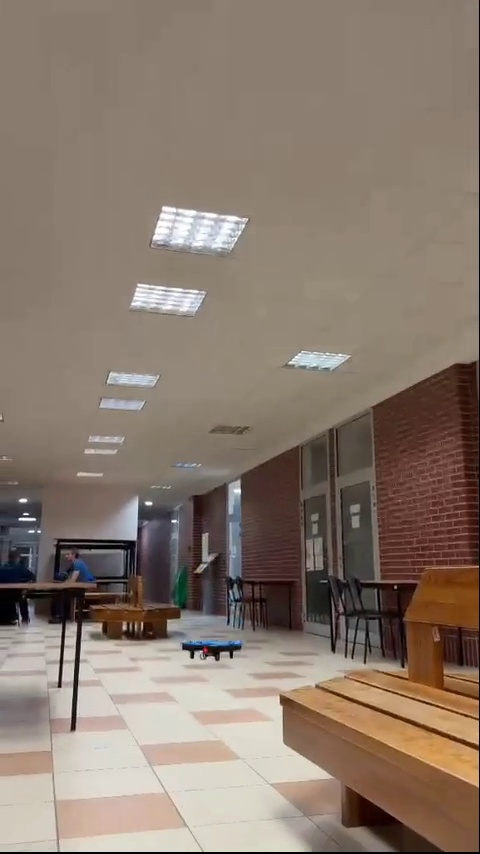drone: (180, 635, 246, 664)
no vest: (0, 542, 35, 625), (54, 545, 89, 593)
